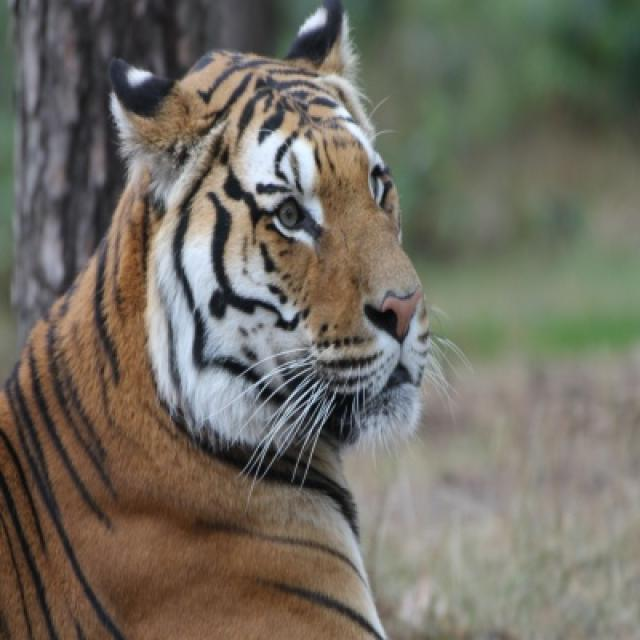Tiger: (4, 4, 432, 636)
